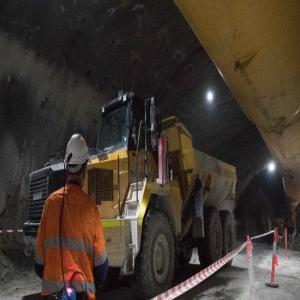white: (65, 135, 90, 187)
